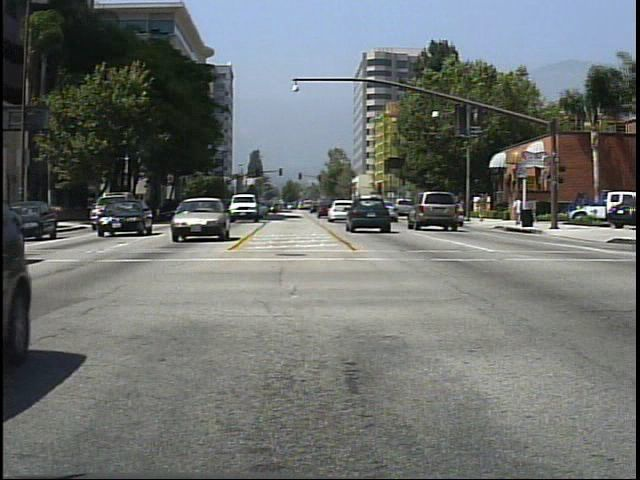person: (509, 193, 524, 229), (475, 192, 488, 224)
